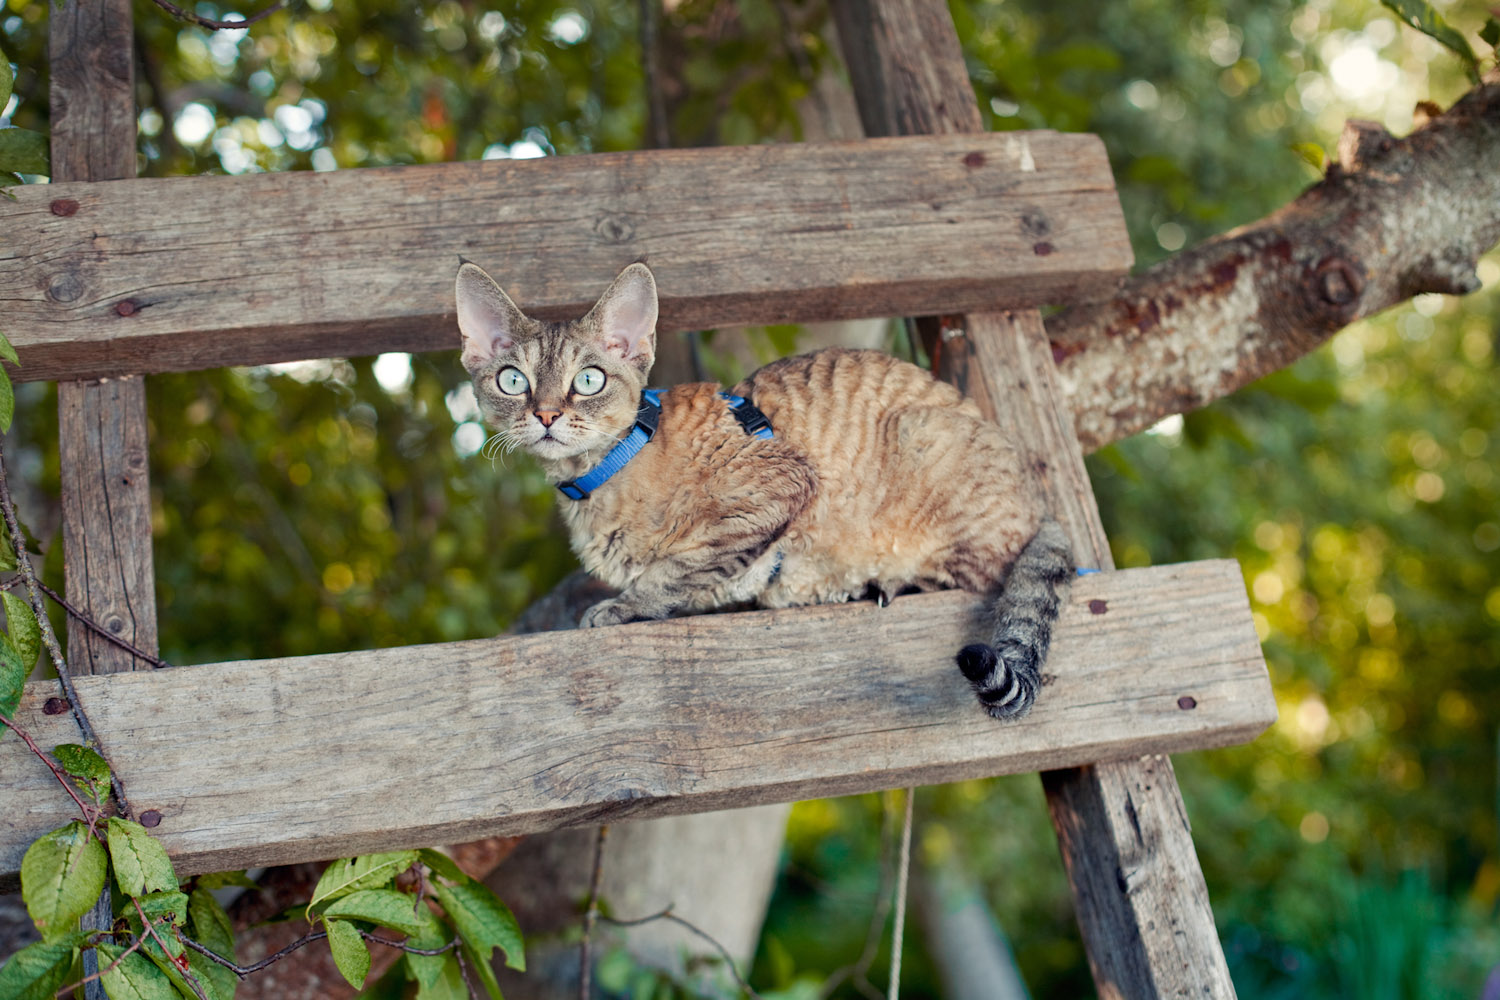cat: (451, 259, 1079, 724)
